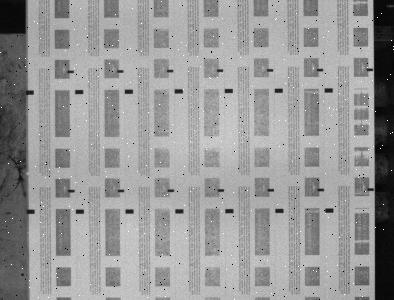qblock: (125, 209, 134, 214), (27, 209, 35, 214), (125, 89, 133, 94), (275, 88, 283, 93), (76, 209, 84, 214), (276, 208, 284, 213), (175, 209, 184, 213), (26, 90, 34, 94), (75, 90, 83, 94), (325, 88, 333, 92), (175, 89, 183, 93), (225, 89, 233, 93), (326, 208, 334, 212), (226, 209, 234, 213)
smallqblock: (167, 69, 174, 73), (117, 70, 124, 73), (217, 69, 224, 72), (267, 69, 274, 72), (68, 189, 75, 192), (367, 68, 374, 71), (268, 188, 275, 191), (318, 188, 325, 191), (218, 189, 225, 192), (168, 189, 175, 192), (368, 188, 375, 191), (68, 70, 74, 73), (318, 68, 324, 71), (118, 189, 124, 192)
